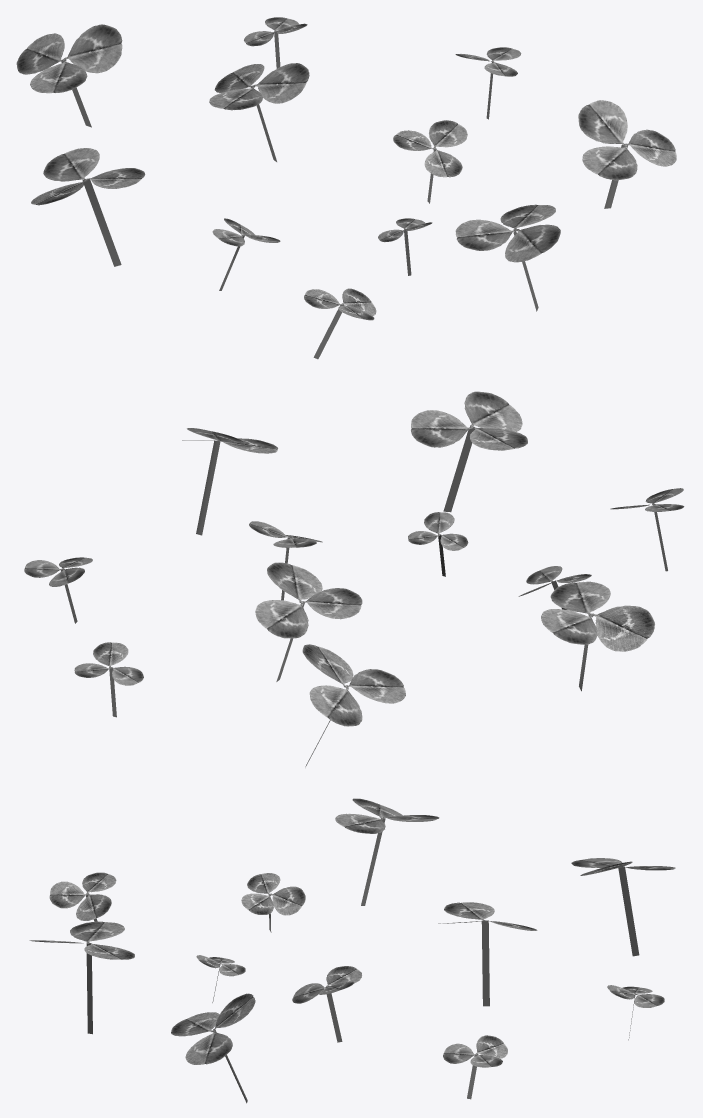
File: Clover.FBX
The picture shows the model from 3 angles, top to bottom: view 1: azimuth 30°, elevation 25°; view 2: azimuth 150°, elevation 25°; view 3: azimuth 270°, elevation 25°; orthographic projection. The views are drawn at different scales.
Visible parts, largest first — view 1: Clover; view 2: Clover; view 3: Clover.
Boxes of the visible parts, <box> form: Clover: <box>16,17,676,359</box>; Clover: <box>24,391,684,767</box>; Clover: <box>29,798,675,1103</box>.
Size of the model in its own units: 21.42 by 4.15 by 23.34.
1 material, 1 textured.
